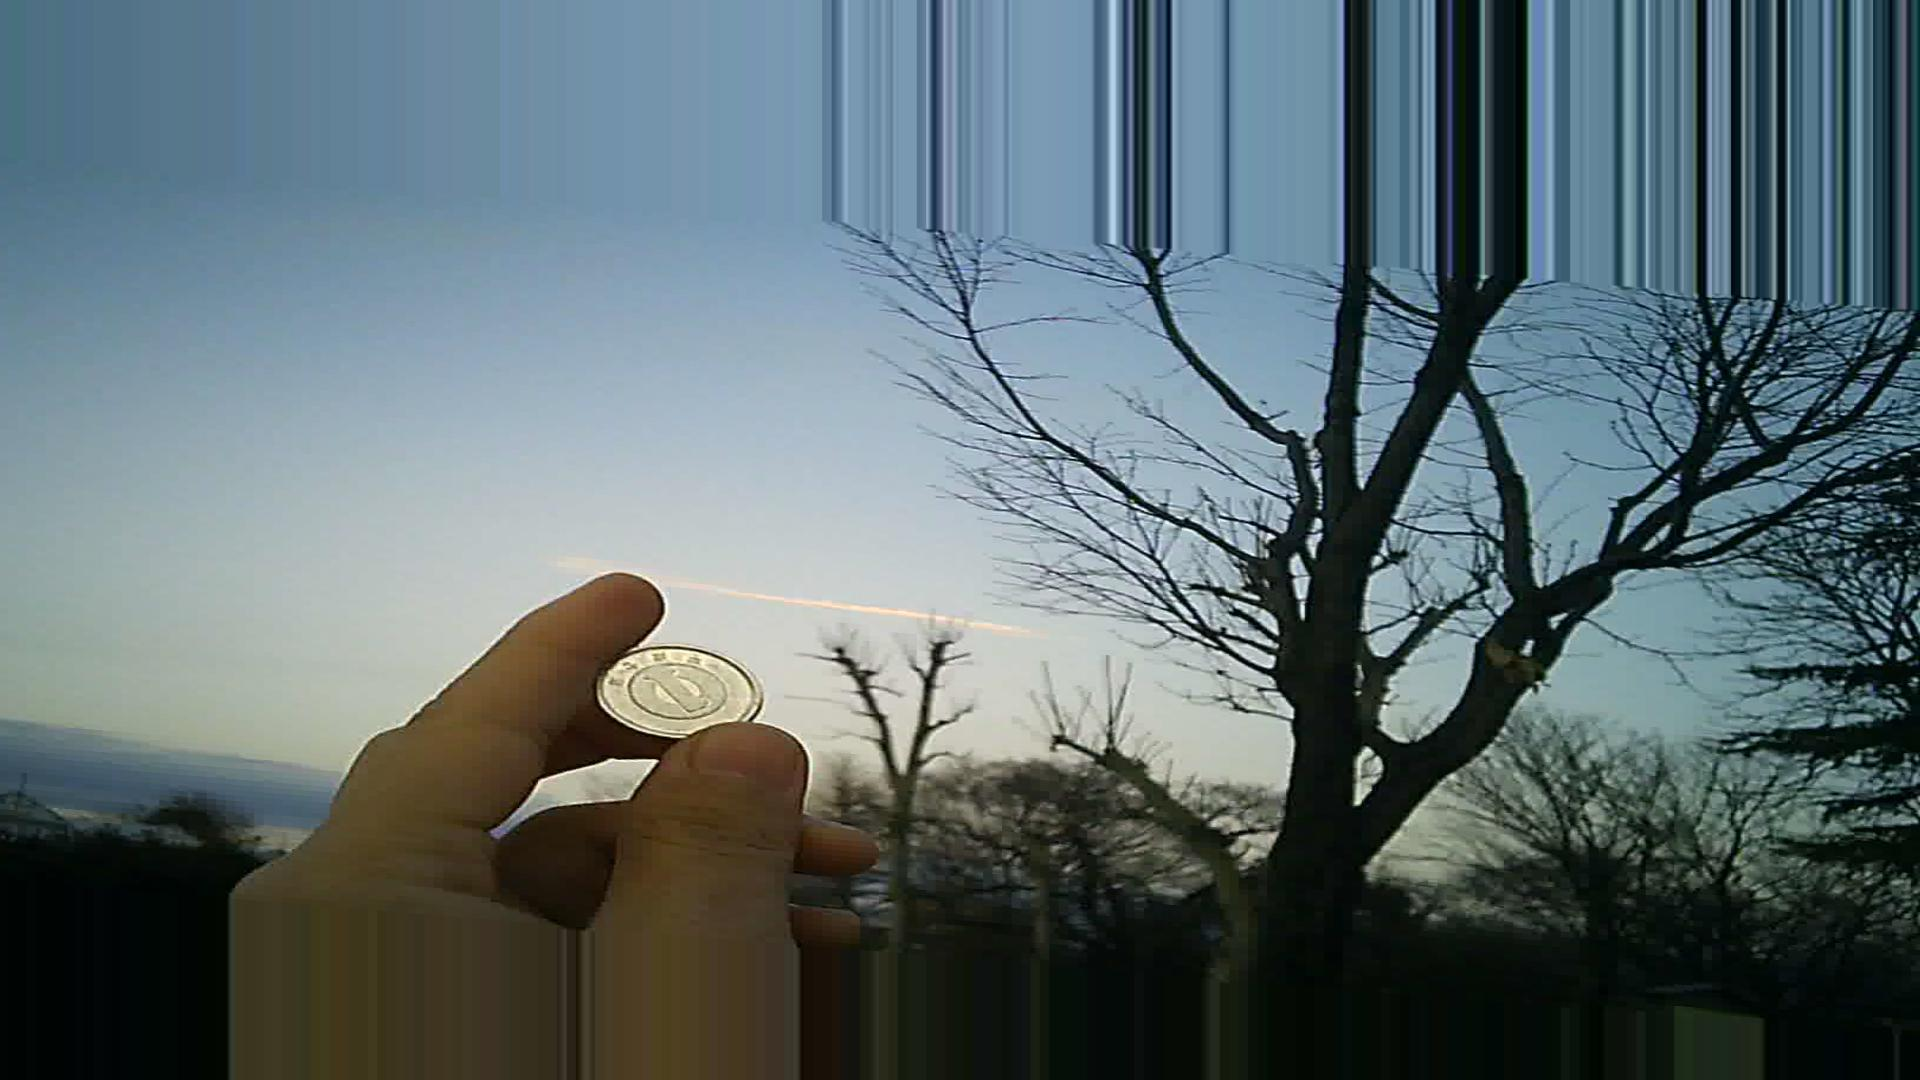1 Yen: (564, 615, 761, 756)
